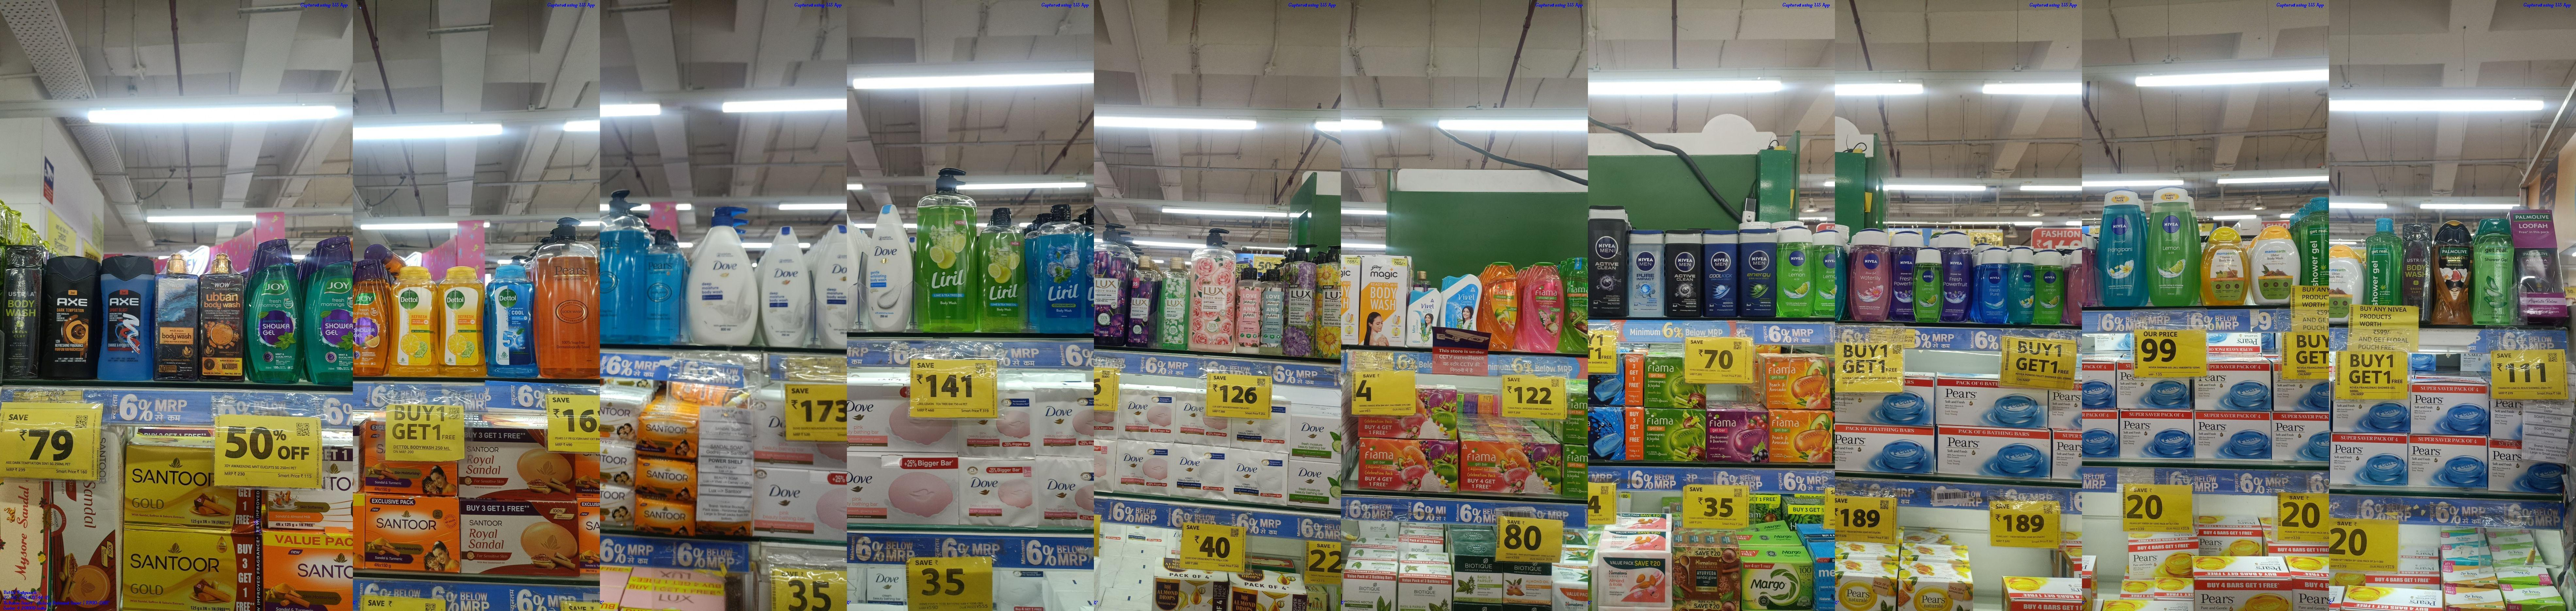Dettol_Bodywash_Cool: (490, 264, 534, 378)
Dettol_Bodywash_Refresh: (393, 264, 439, 376), (440, 264, 481, 376)
Dove_Deep_Moisture_Body_Wash_250ML: (762, 223, 813, 350), (818, 225, 848, 348)
Dove_Gentle_Exfoliating_Body_Wash_250ML: (866, 200, 912, 332)
Fiama_Shower_Gel_Lemongrass_and_Jojoba_250ML: (1564, 256, 1590, 356)
Fiama_Shower_Gel_Patchouli_and_Macadamia_250ML: (1525, 260, 1561, 356)
Fiama_Shower_Gel_Peach_and_Avocado_250ML: (1483, 261, 1520, 353)
Joy_Shower_Gel_Mandarin_and_Lemongrass_250ML: (353, 256, 386, 378)
Joy_Shower_Gel_Mint_and_Eucalyptus_250ML: (246, 235, 301, 386), (310, 233, 352, 386)
Liril_Lime_and_Tea_Tree_Oil_Body_Wash_250ML: (981, 205, 1027, 337)
Lux_Black_Orchid_Scent_and_Juniper_Oil_Body_Wash_245ML: (1130, 255, 1153, 350)
Lux_Body_Wash_Skin_Detox_Freesia_Scent_and_Alove_Vera_245ML: (1160, 256, 1189, 355)
Nivea_Shower_Gel_Frangipani_and_Oil_250ML: (2096, 186, 2146, 309), (2012, 246, 2034, 325)
Nivea_Shower_Gel_Fresh_Powerfruit_250ML: (1942, 232, 1973, 324)
Nivea_Shower_Gel_Lemon_and_Oil_250ML: (2147, 184, 2200, 309), (1778, 227, 1814, 319), (2035, 250, 2062, 324), (1814, 228, 1835, 317)
Nivea_Shower_Gel_Waterlily_and_Oil_250ML: (1851, 225, 1889, 322)
Palmolive_Luminous_Oils_With_White_Orchid_Shower_Gel_250ML: (2435, 218, 2471, 330)
